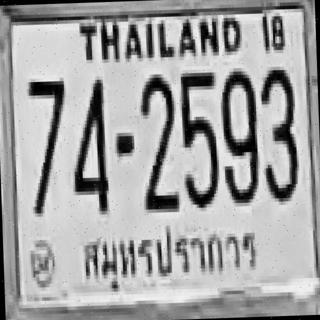N02: (138, 70, 176, 209)
N03: (258, 64, 298, 197)
N04: (69, 74, 107, 210)
N05: (178, 69, 218, 205)
N07: (26, 76, 66, 212)
N09: (219, 68, 257, 200)
P57: (75, 220, 266, 298)
